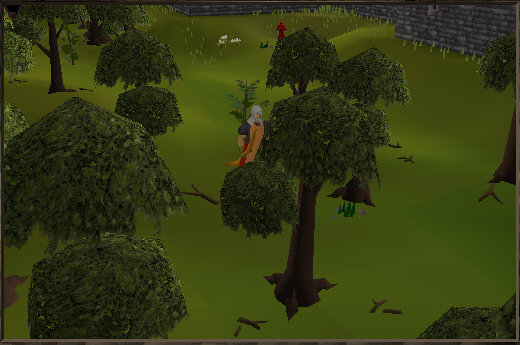Tree: (236, 87, 363, 310), (464, 35, 518, 184), (18, 3, 84, 93)
